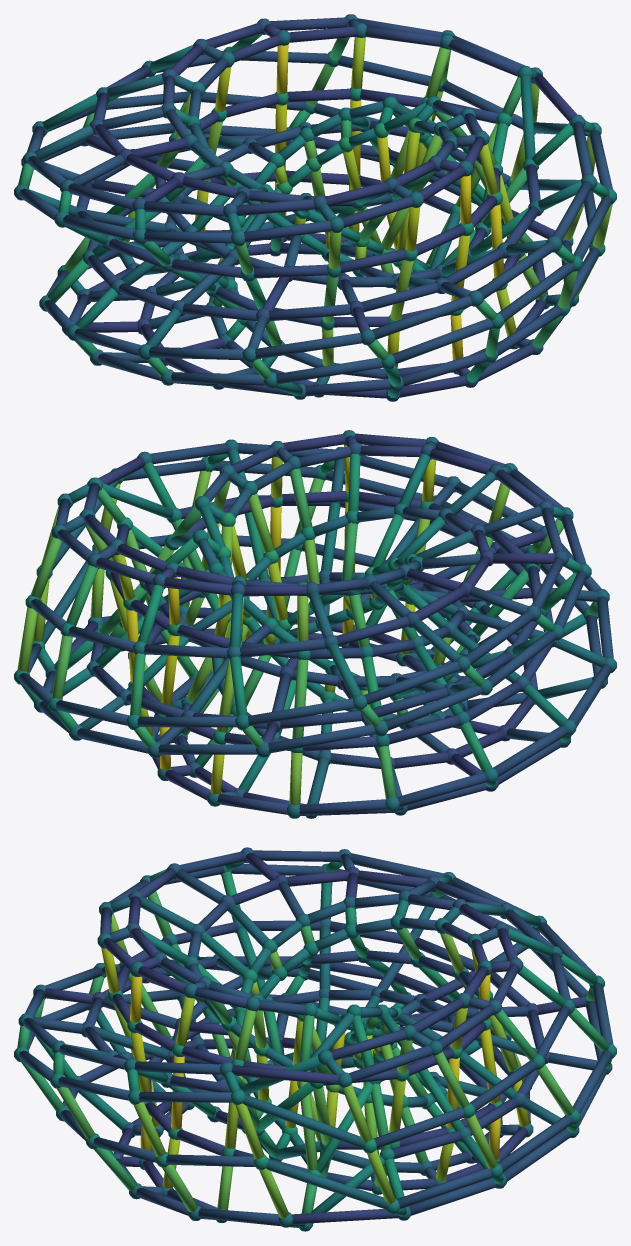
Rendered from klein_n16x14.glb.
3 renders of one model, top to bottom at view 1: azimuth 30°, elevation 25°; view 2: azimuth 150°, elevation 25°; view 3: azimuth 270°, elevation 25°, orthographic. The views are drawn at different scales.
Visible parts, largest first — view 1: klein_relaxed; view 2: klein_relaxed; view 3: klein_relaxed.
Part boxes in pixels (x1,y1,x2,y2): klein_relaxed: (14, 14, 616, 401); klein_relaxed: (14, 430, 616, 818); klein_relaxed: (14, 847, 616, 1231).
Size of the model in its own units: 93.83 by 39.46 by 100.
